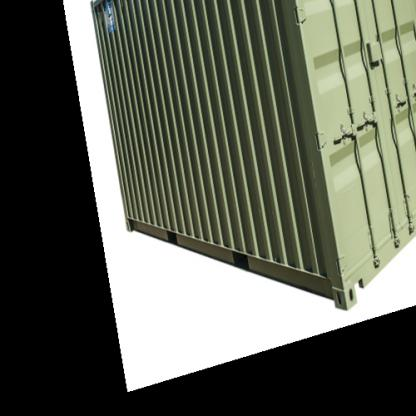Damage: (306, 147, 328, 198)
